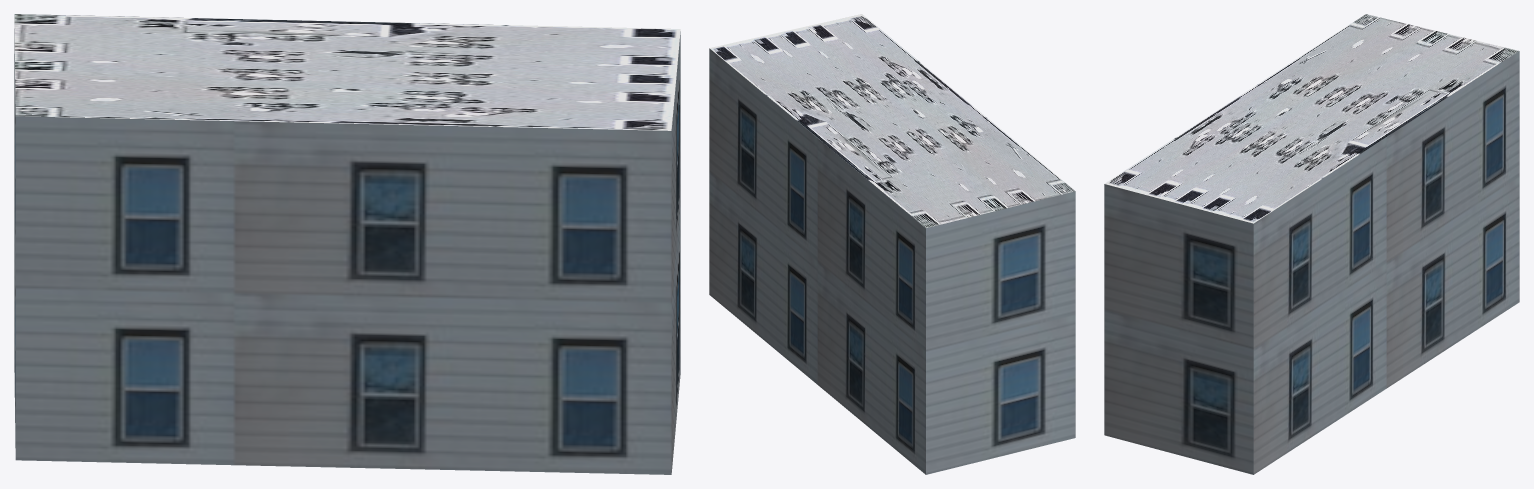
The model's file is ResTex__3045.fbx.
The picture shows the model from 3 angles, left to right: view 1: azimuth 30°, elevation 25°; view 2: azimuth 150°, elevation 25°; view 3: azimuth 270°, elevation 25°; orthographic projection. The views are drawn at different scales.
Visible parts, largest first — view 1: CityEngineMaterial_18_m, CityEngineMaterial_8_m; view 2: CityEngineMaterial_18_m, CityEngineMaterial_8_m; view 3: CityEngineMaterial_18_m, CityEngineMaterial_8_m.
Boxes of the visible parts, <box> form: CityEngineMaterial_18_m: <box>14,29,680,474</box>; CityEngineMaterial_8_m: <box>14,14,680,130</box>; CityEngineMaterial_18_m: <box>709,48,1075,474</box>; CityEngineMaterial_8_m: <box>709,14,1075,228</box>; CityEngineMaterial_18_m: <box>1104,51,1519,474</box>; CityEngineMaterial_8_m: <box>1105,14,1518,223</box>.
Size of the model in its own units: 10.73 by 6 by 8.98.
2 materials, 2 textured.
